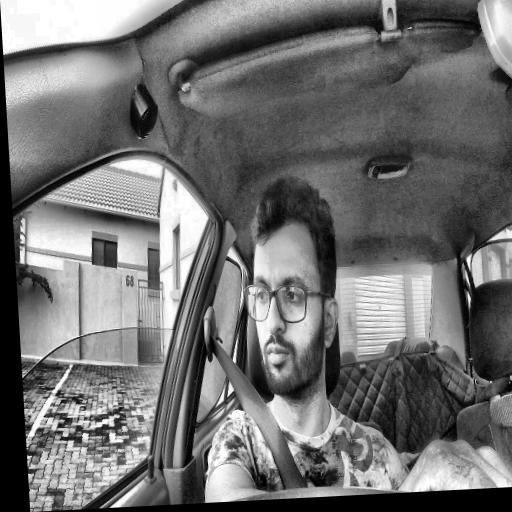awake: (237, 174, 345, 400)
